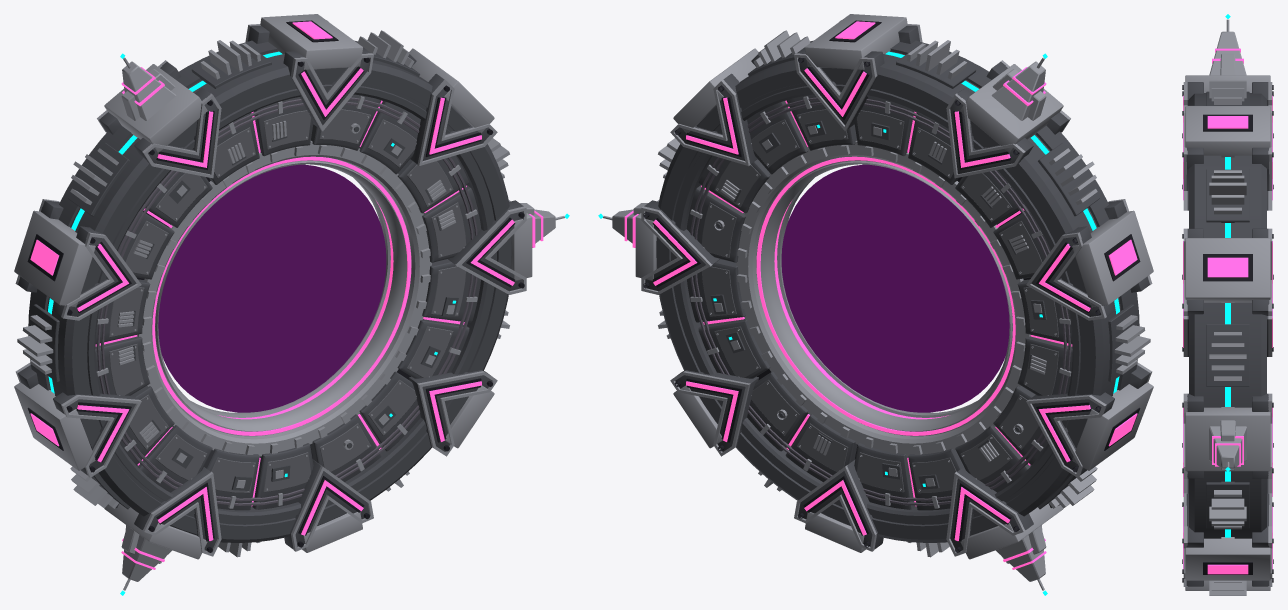
File: portal_gateway.glb
3 views of the same model, side by side, from view 1: azimuth 30°, elevation 25°; view 2: azimuth 150°, elevation 25°; view 3: azimuth 270°, elevation 25° (orthographic). The views are drawn at different scales.
Parts seen in each view (by area): view 1: GateFrame, PortalMembrane; view 2: GateFrame, PortalMembrane; view 3: GateFrame.
Part boxes in pixels (x1=…): GateFrame: x1=14, y1=14, x2=569, y2=595; PortalMembrane: x1=158, y1=164, x2=386, y2=412; GateFrame: x1=598, y1=14, x2=1153, y2=595; PortalMembrane: x1=781, y1=164, x2=1009, y2=412; GateFrame: x1=1182, y1=14, x2=1273, y2=595.
Size of the model in its own units: 15.01 by 14.35 by 2.34.
